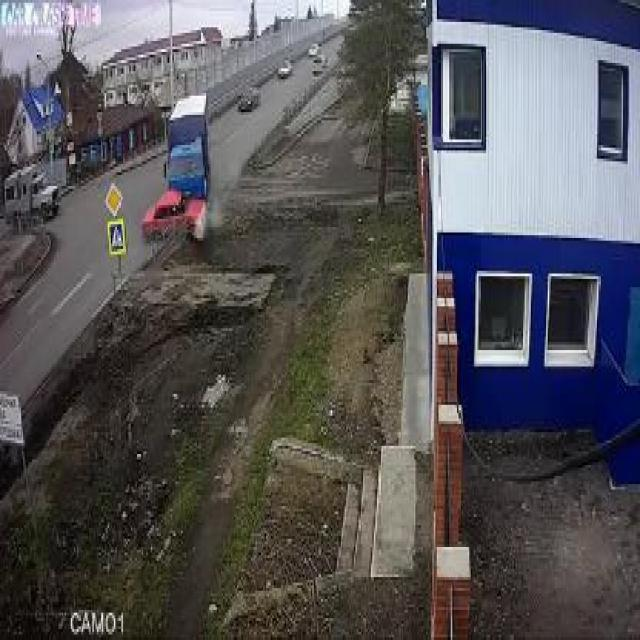accident: (140, 87, 215, 240)
